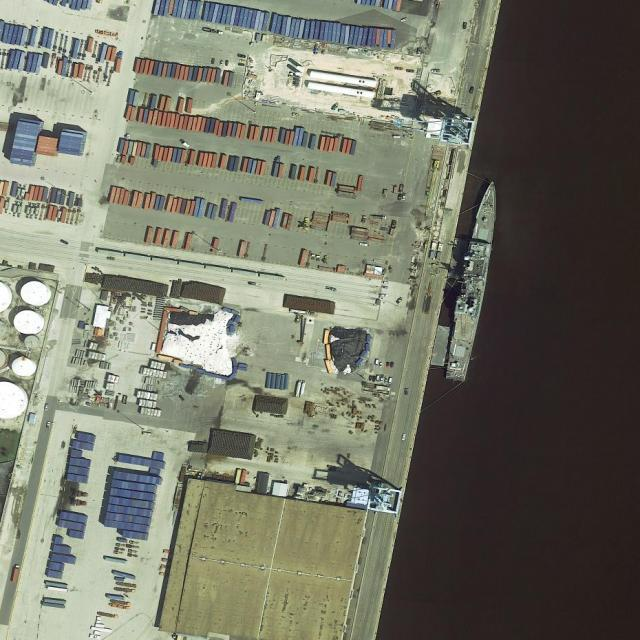Cruiser: (442, 180, 506, 382)
